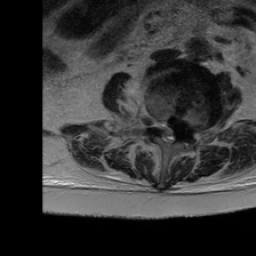CCS_normal: (166, 117, 174, 147)
LFS_severe_stenosis: (184, 117, 191, 138)
LLS_severe_stenosis: (175, 118, 183, 141)
RFS_normal: (150, 109, 160, 131)
RLS_normal: (159, 116, 166, 144)
